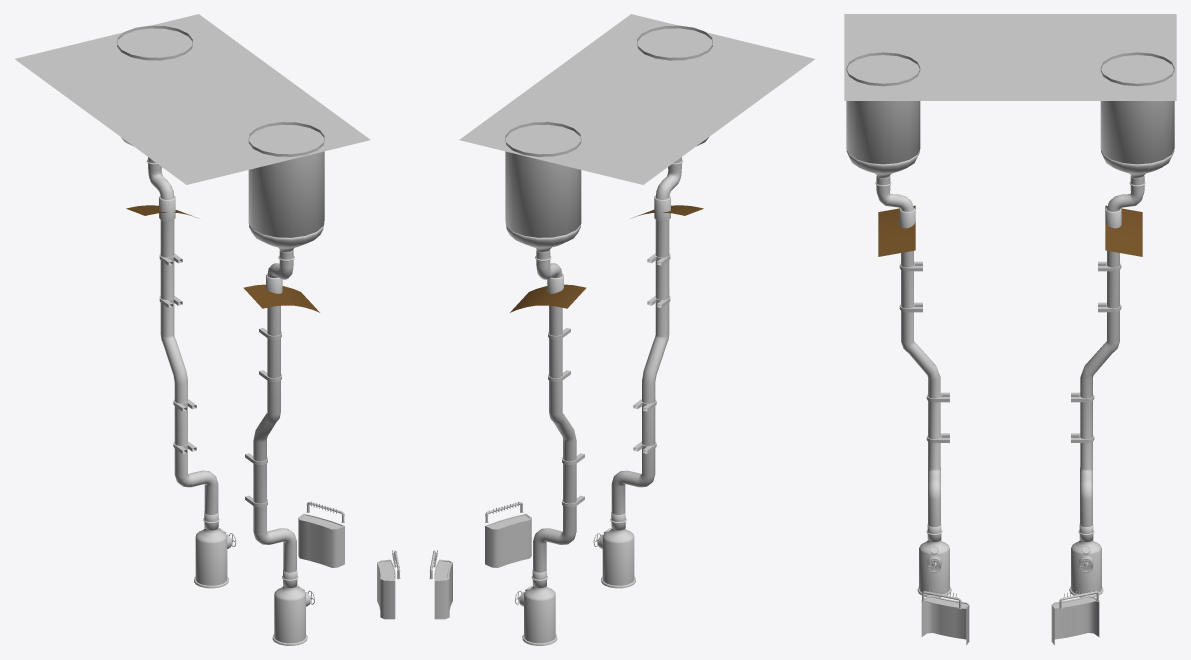
Rendered from beerset.fbx.
3 views of the same model, side by side, from view 1: azimuth 30°, elevation 25°; view 2: azimuth 150°, elevation 25°; view 3: azimuth 270°, elevation 25° (orthographic). The views are drawn at different scales.
Visible parts, largest first — view 1: beerset; view 2: beerset; view 3: beerset.
Boxes of the visible parts, x1=… form: beerset: x1=15, y1=14, x2=400, y2=645; beerset: x1=429, y1=14, x2=814, y2=645; beerset: x1=844, y1=14, x2=1176, y2=645.
Size of the model in its own units: 717 by 1335 by 791.
